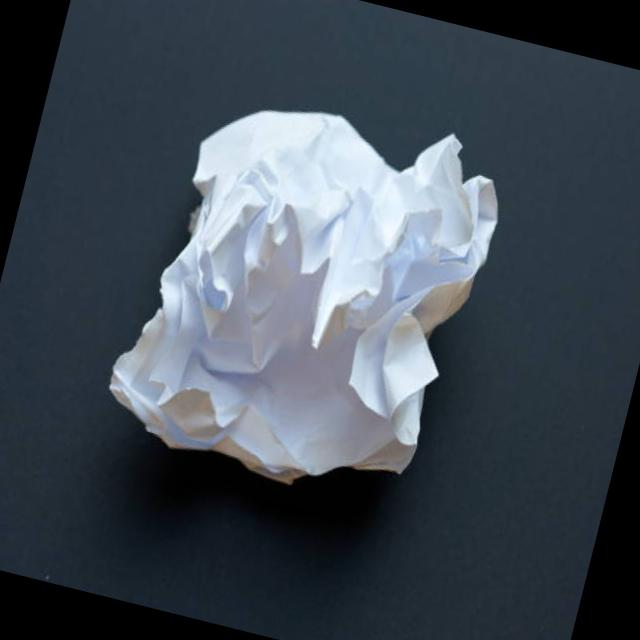electronic: (93, 64, 516, 518)
